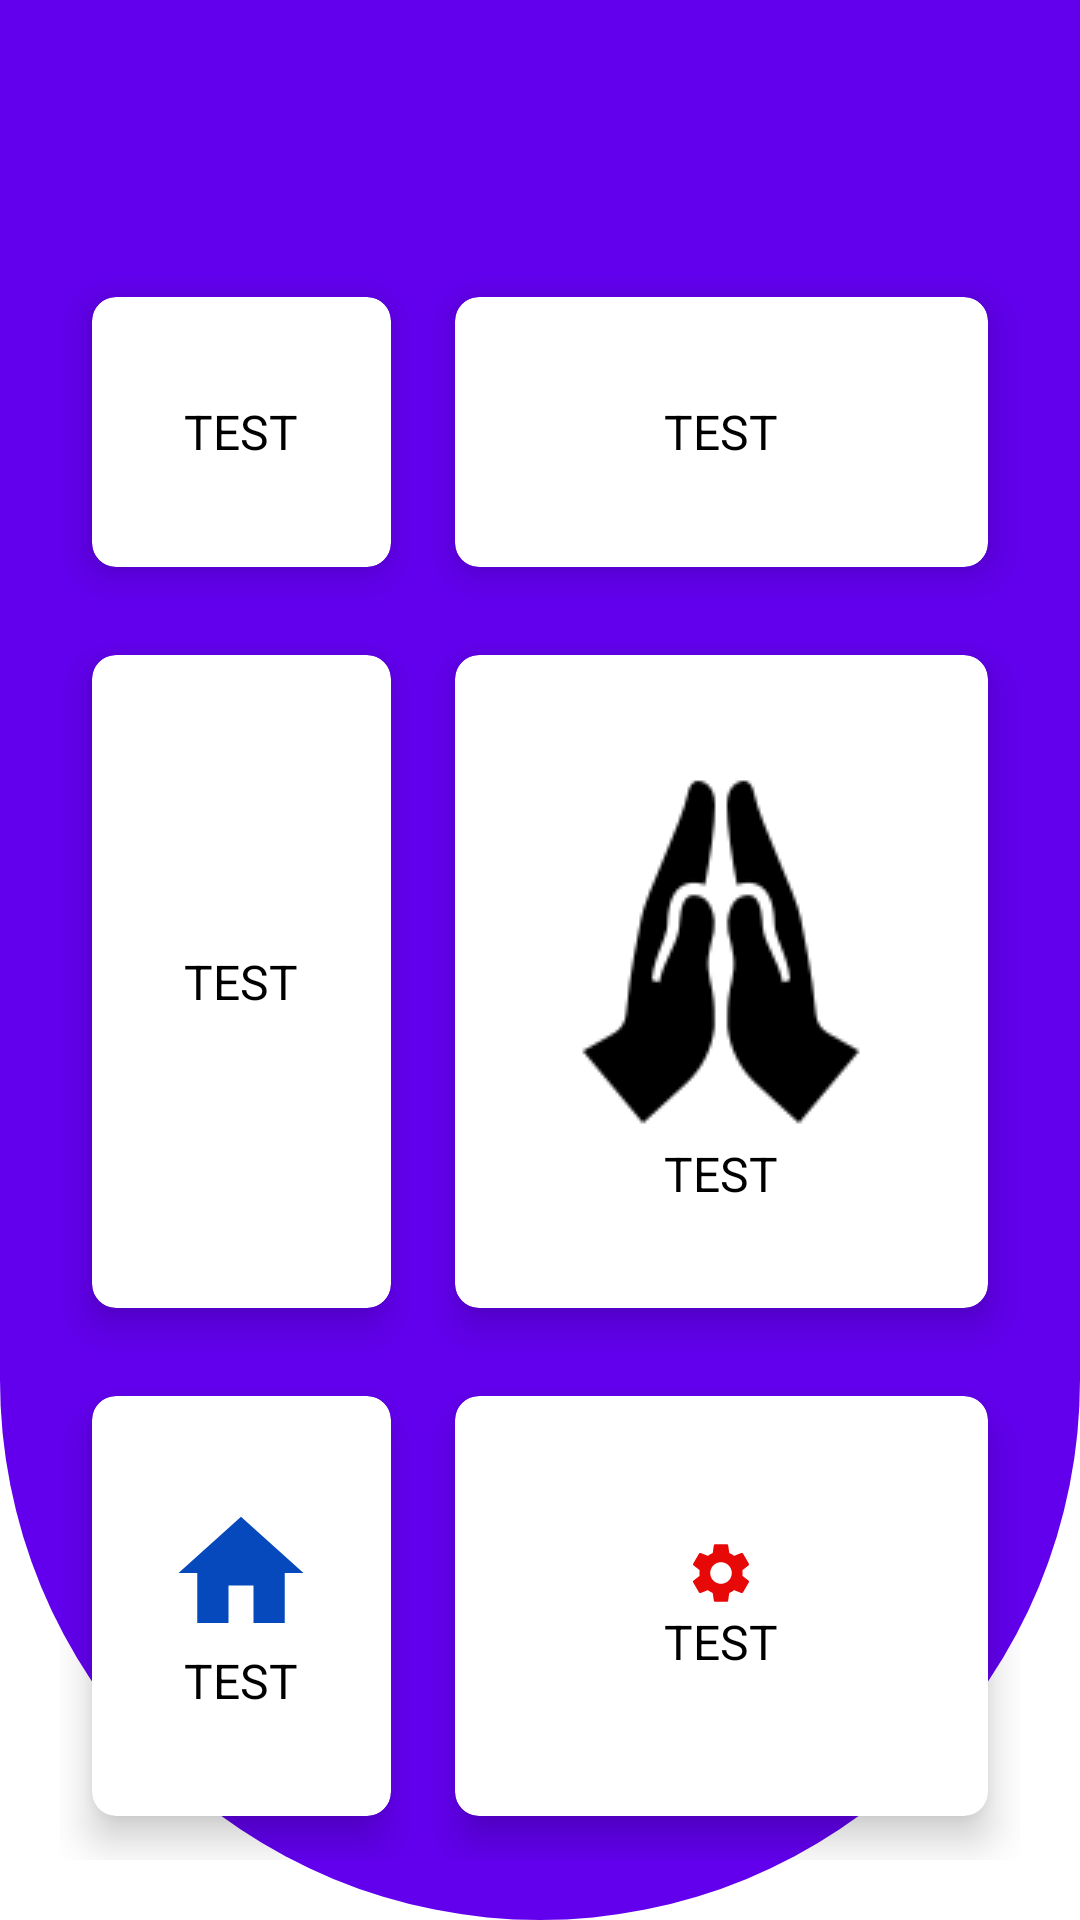

Screen size 1080 x 1920. Icon name, then its center in pixels as point (x, y):
home: point (241, 1570)
pray: point (721, 952)
settings: point (721, 1573)
